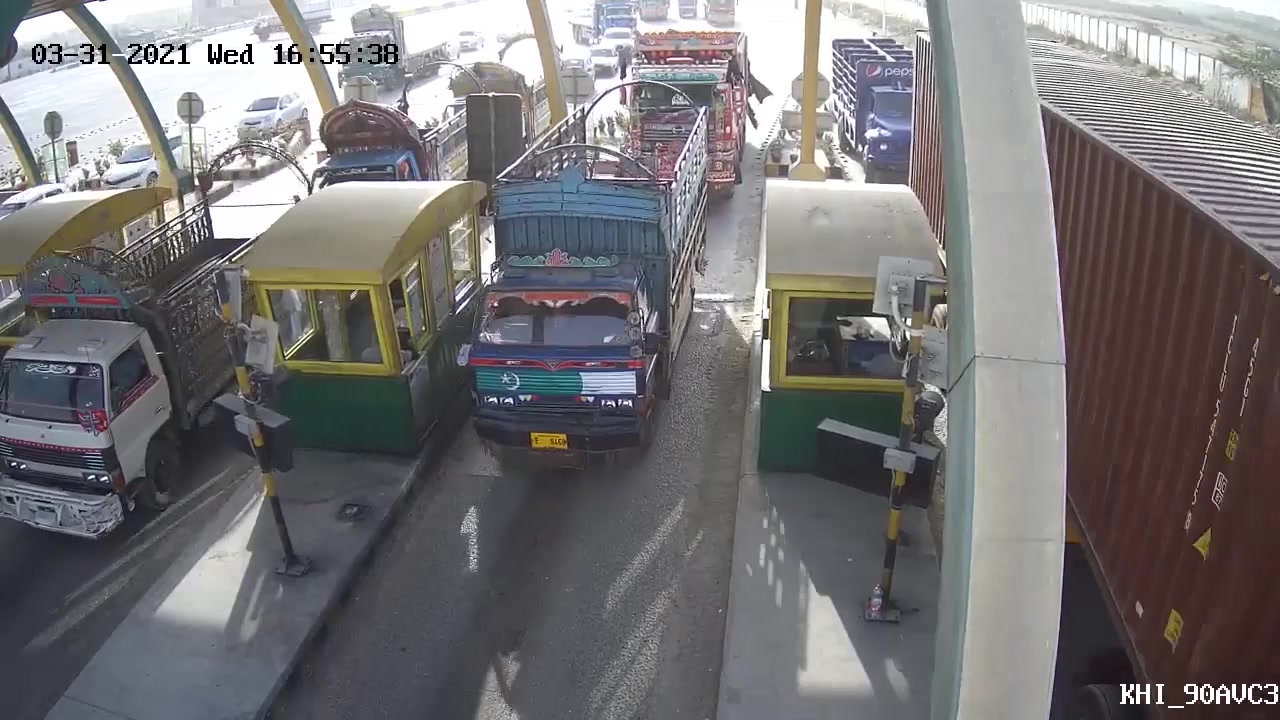F5: (464, 91, 707, 474)
